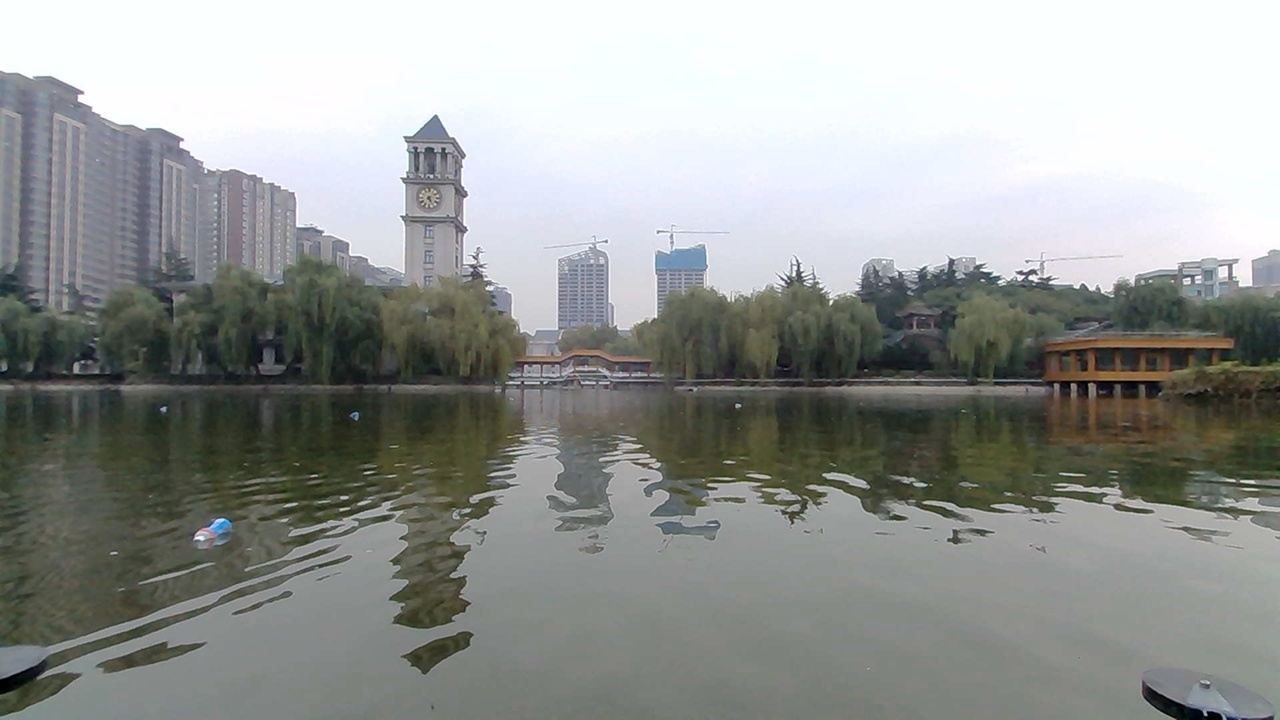bottle: (184, 509, 269, 549), (146, 397, 182, 421), (339, 402, 373, 424), (721, 397, 757, 416)
